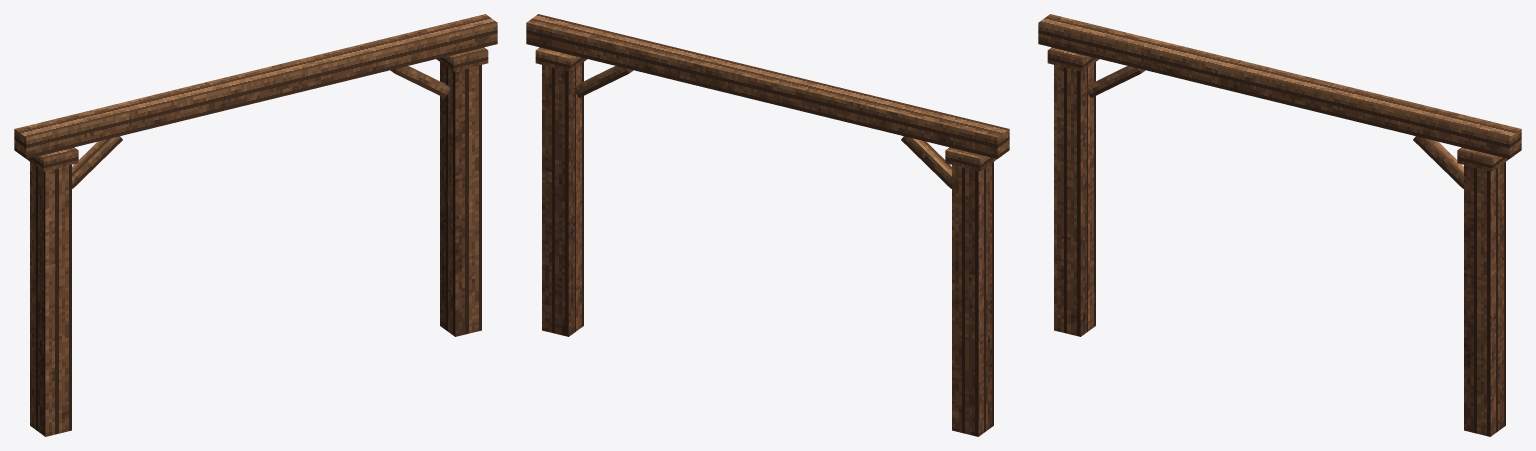
Rendered from gate.glb.
The picture shows the model from 3 angles, left to right: view 1: azimuth 30°, elevation 25°; view 2: azimuth 150°, elevation 25°; view 3: azimuth 330°, elevation 25°; orthographic projection.
Visible parts, largest first — view 1: gate; view 2: gate; view 3: gate.
Part boxes in pixels (x1,y1,x2,y2): gate: [14, 14, 497, 436]; gate: [526, 14, 1009, 436]; gate: [1038, 14, 1521, 436].
Bounding box in the file's own units: 4.6 × 2.82 × 0.34.
1 material, 1 textured.
